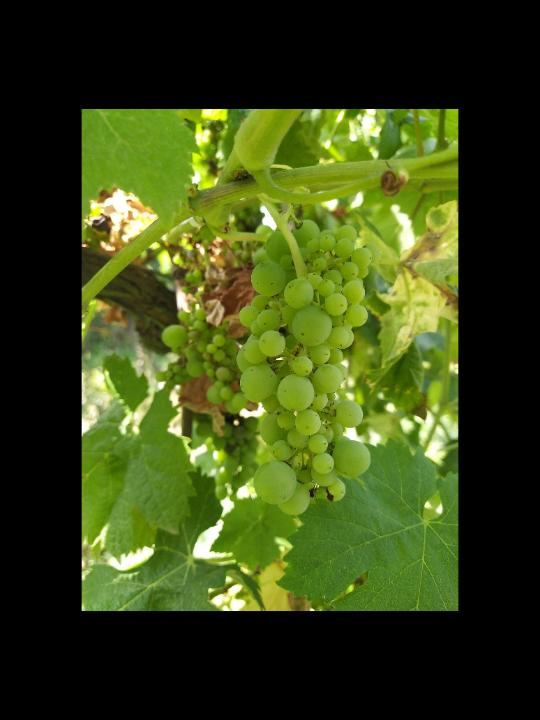grape: (236, 216, 375, 516)
